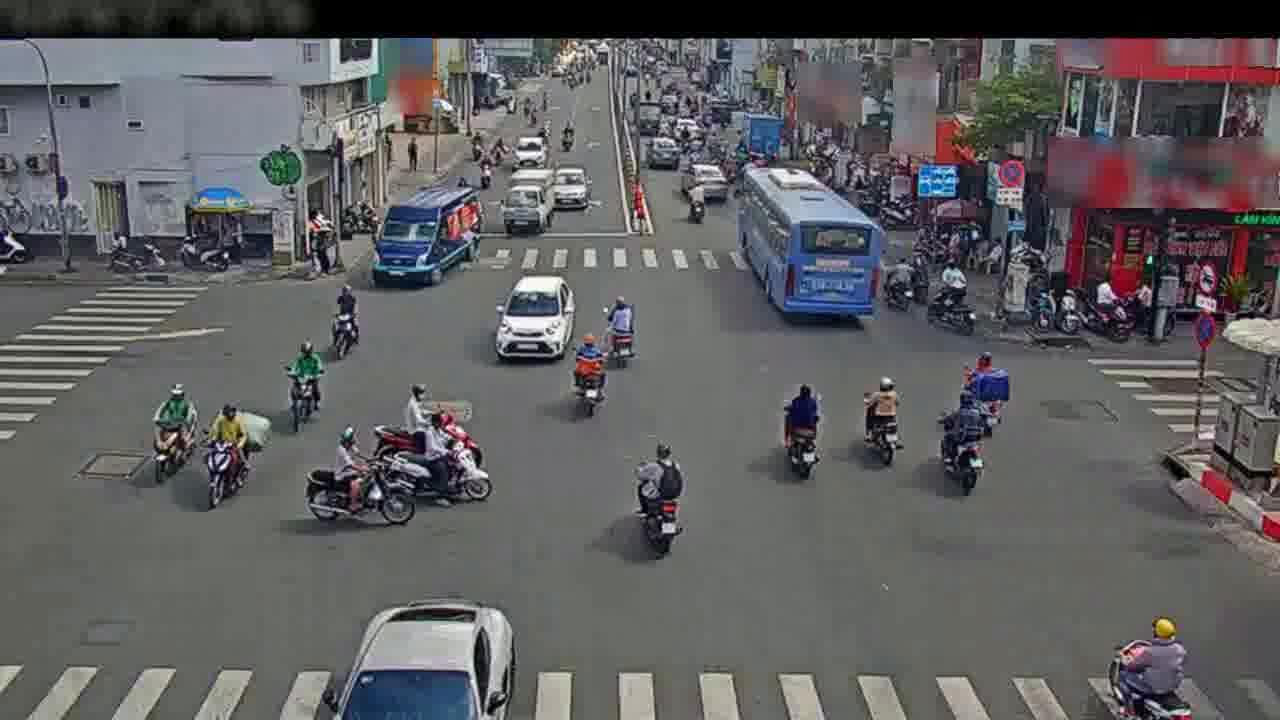14: (733, 180, 877, 309), (376, 183, 482, 289)
8: (504, 171, 556, 235)
container: (346, 594, 502, 720), (500, 275, 570, 360), (550, 169, 594, 218), (687, 160, 726, 201), (509, 136, 545, 173), (647, 134, 682, 167)
motorbike: (1106, 611, 1200, 717), (305, 426, 403, 527), (376, 384, 486, 469), (395, 423, 490, 506), (197, 400, 253, 511), (632, 447, 680, 556), (148, 380, 194, 488), (940, 390, 982, 499), (780, 373, 821, 479), (861, 374, 902, 469), (966, 354, 1003, 453), (285, 335, 321, 435), (931, 259, 973, 334), (572, 329, 605, 423), (604, 292, 637, 374), (882, 248, 922, 315), (328, 283, 360, 365), (684, 174, 707, 233), (558, 116, 573, 155)
